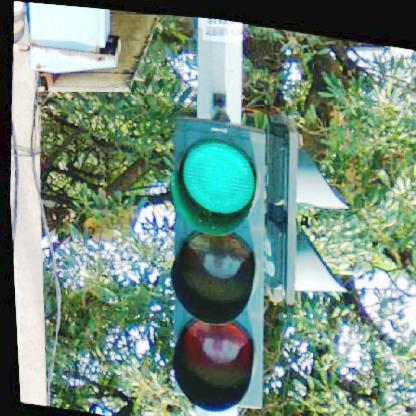Traffic Light -Green-: (150, 110, 278, 408)
